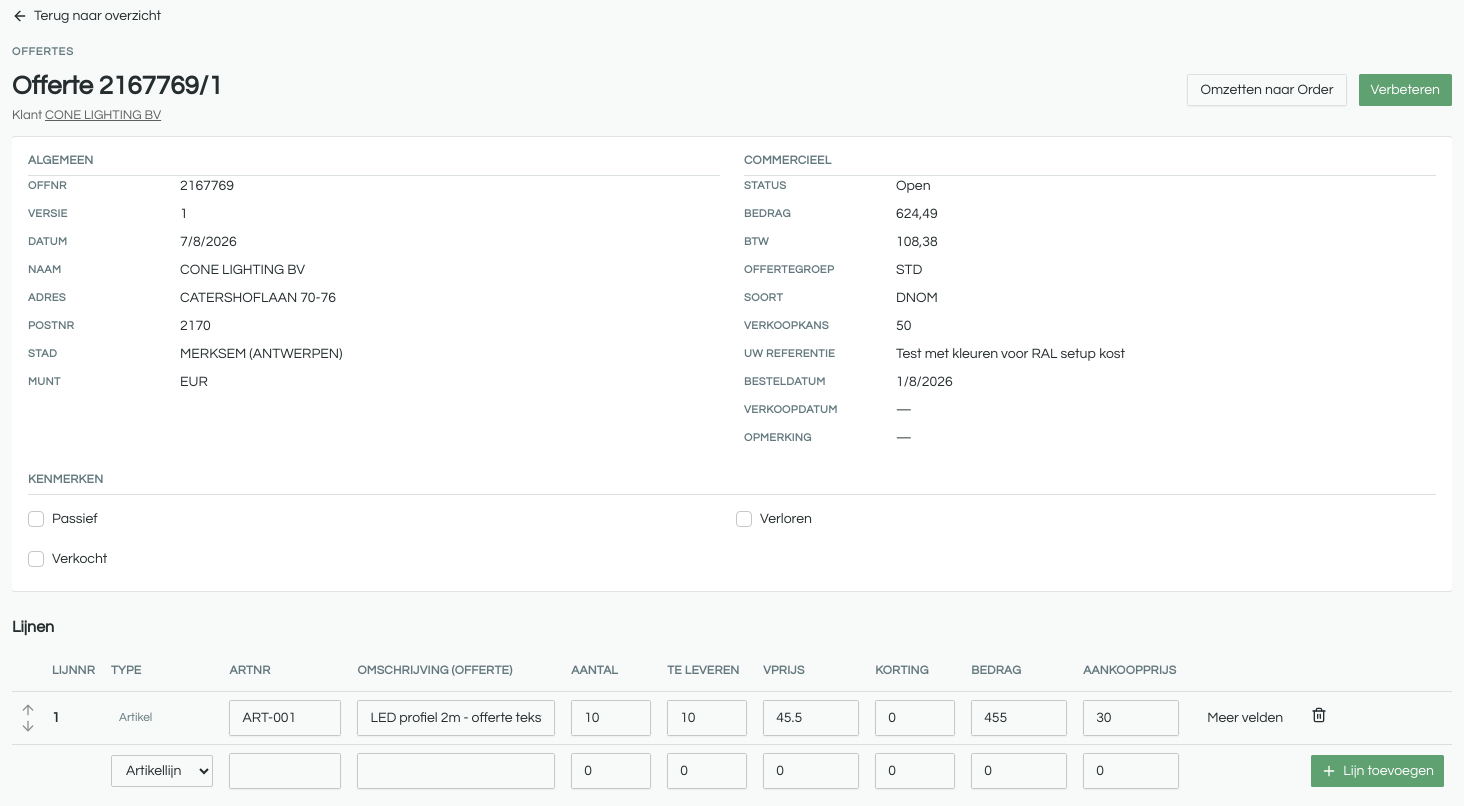
OfferteDetailPage › switches to editable header fields after clicking 'Verbeteren', with offnr/versie/bedrag/btw staying read-only
This screenshot has width=1464, height=806.
Click the button "Verbeteren" at (1405, 90), box [1358,74,1452,106]
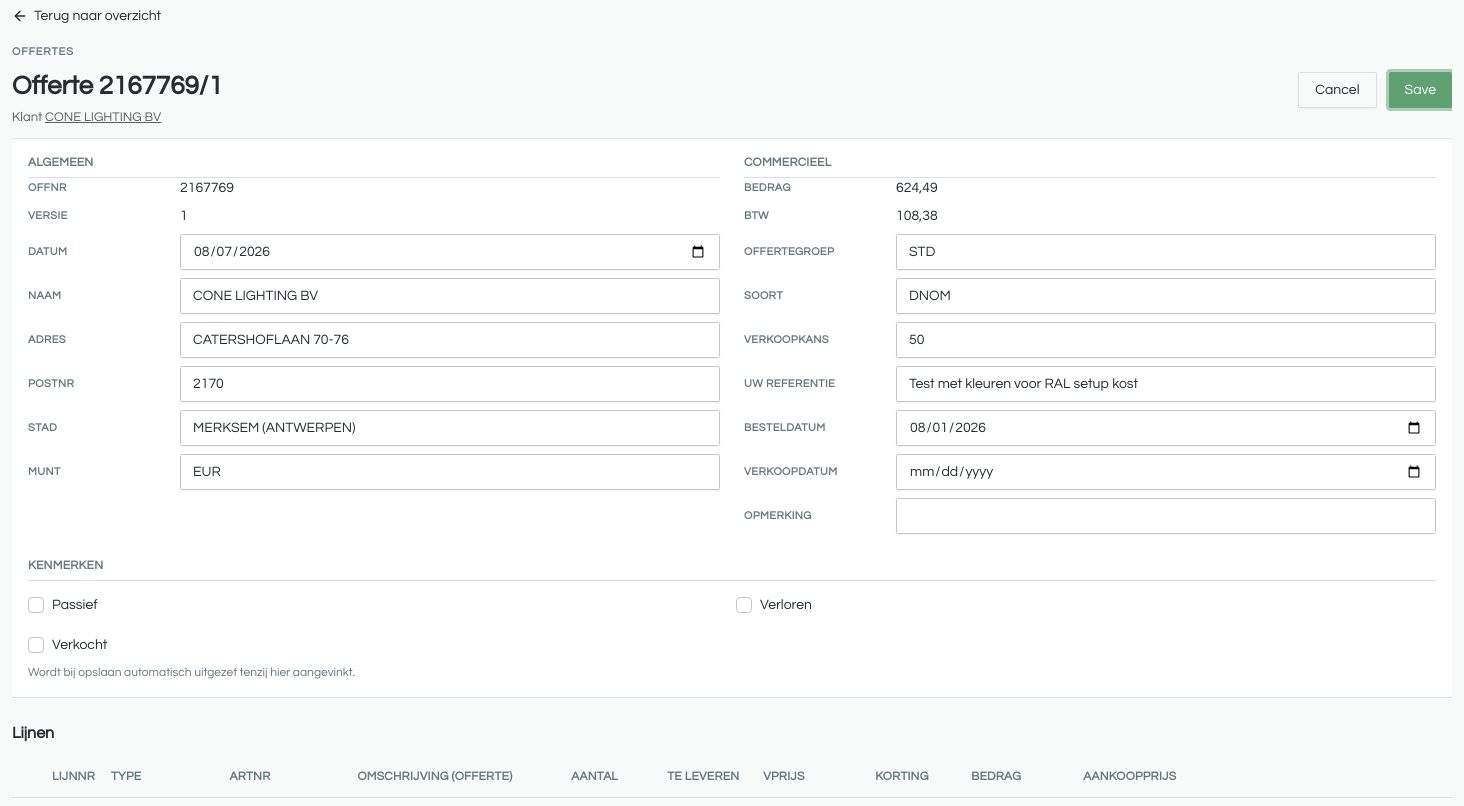
Expected: the field labelled "Naam" holds "CONE LIGHTING BV", [180,278,720,314]
Expected: the button "Save" is shown, [1388,72,1452,108]
Expected: the button "Cancel" is shown, [1298,72,1376,108]
